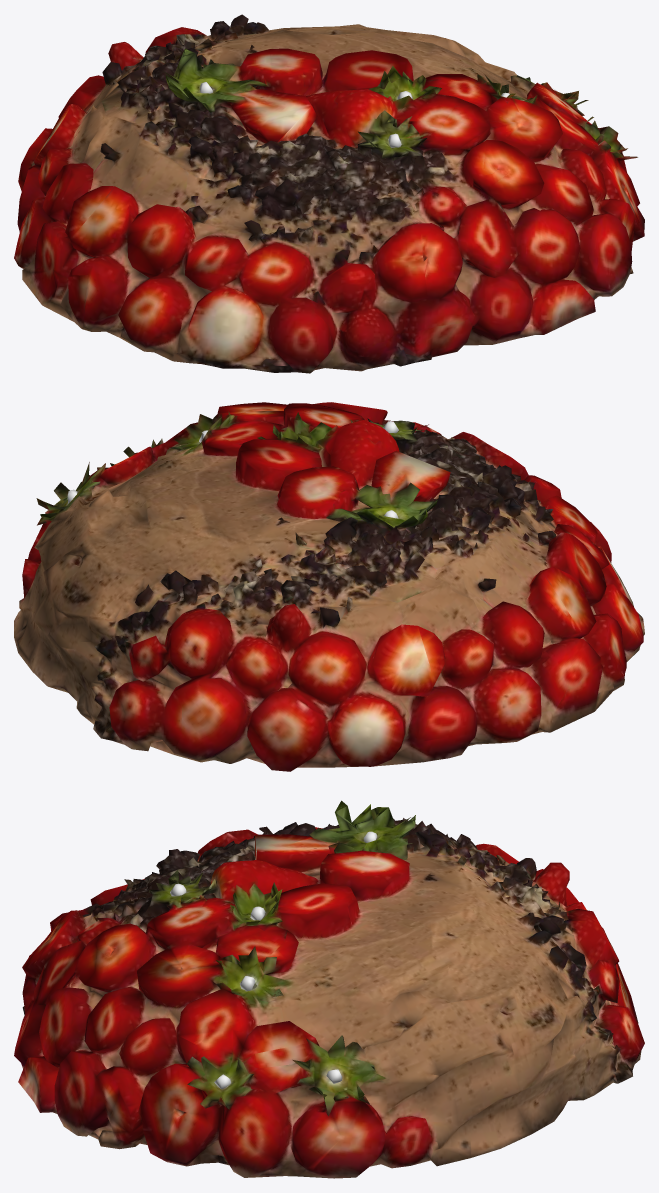
Rendered from strawberry_chocolate_cake.35073f22.glb.
3 renders of one model, top to bottom at view 1: azimuth 30°, elevation 25°; view 2: azimuth 150°, elevation 25°; view 3: azimuth 270°, elevation 25°, orthographic. The views are drawn at different scales.
Parts seen in each view (by area): view 1: strawberry_chocolate_cake; view 2: strawberry_chocolate_cake; view 3: strawberry_chocolate_cake.
Part boxes in pixels (bbox=[...]): strawberry_chocolate_cake: bbox=[14, 14, 644, 373]; strawberry_chocolate_cake: bbox=[14, 402, 644, 771]; strawberry_chocolate_cake: bbox=[14, 800, 644, 1178].
Bounding box in the file's own units: 0.73 × 0.2343 × 0.72.
Materials: 1 (1 with a texture image).
